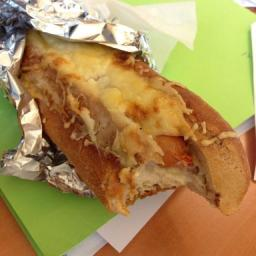hotdog: (149, 134, 215, 180)
